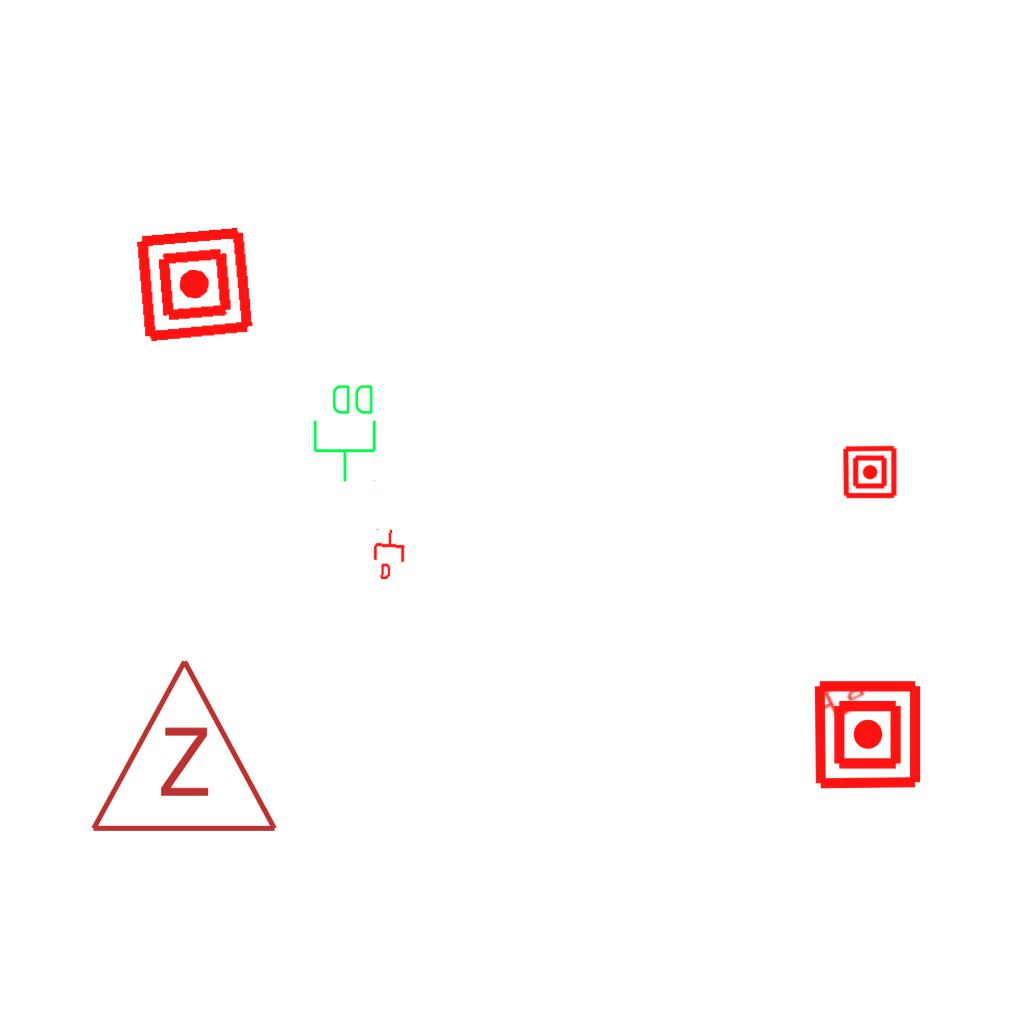Datenanschluss_einfach: (809, 673, 869, 727), (370, 527, 408, 581)
Datenanschluss_zweifach: (311, 381, 380, 484)
NAM-Nichtautomatischer_Melder: (133, 223, 256, 346), (811, 678, 924, 791), (842, 444, 898, 500)
Zimmersignalleuchte: (84, 646, 280, 846)
